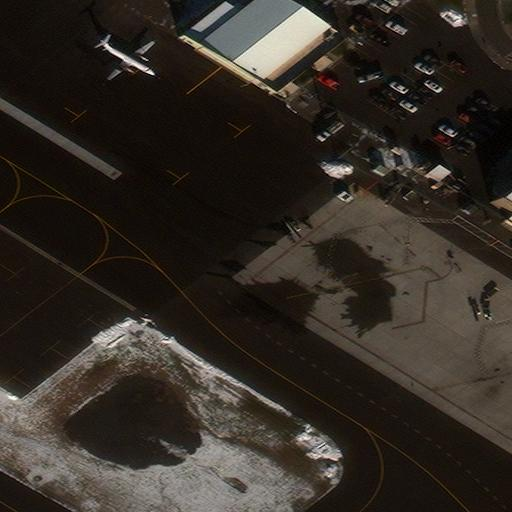Medium Civil Transport: (100, 40, 155, 80)
